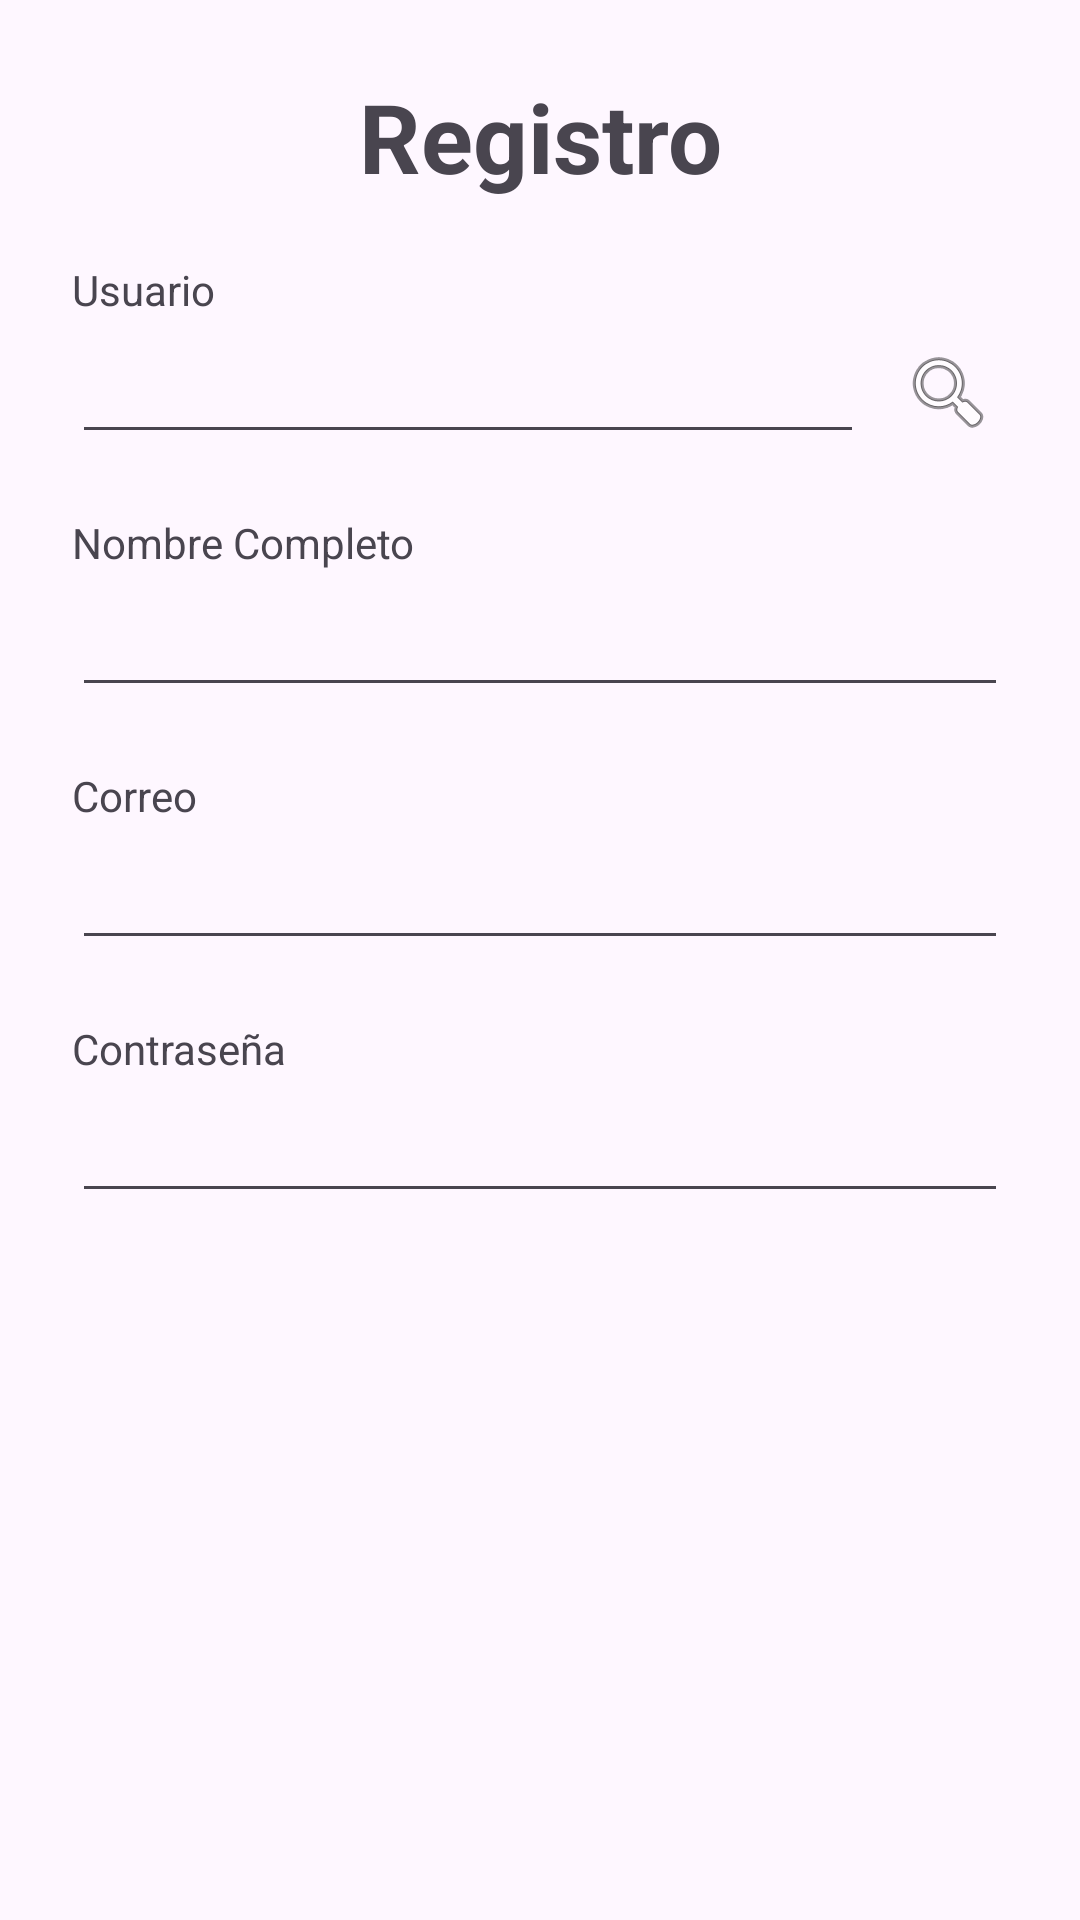

Locate icon controls on the screen. Image size 1080×1920, boxes as BBox(x1, y1, x2, y2).
Search user: BBox(912, 357, 984, 428)
